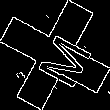M_NW: (22, 23, 88, 87)
